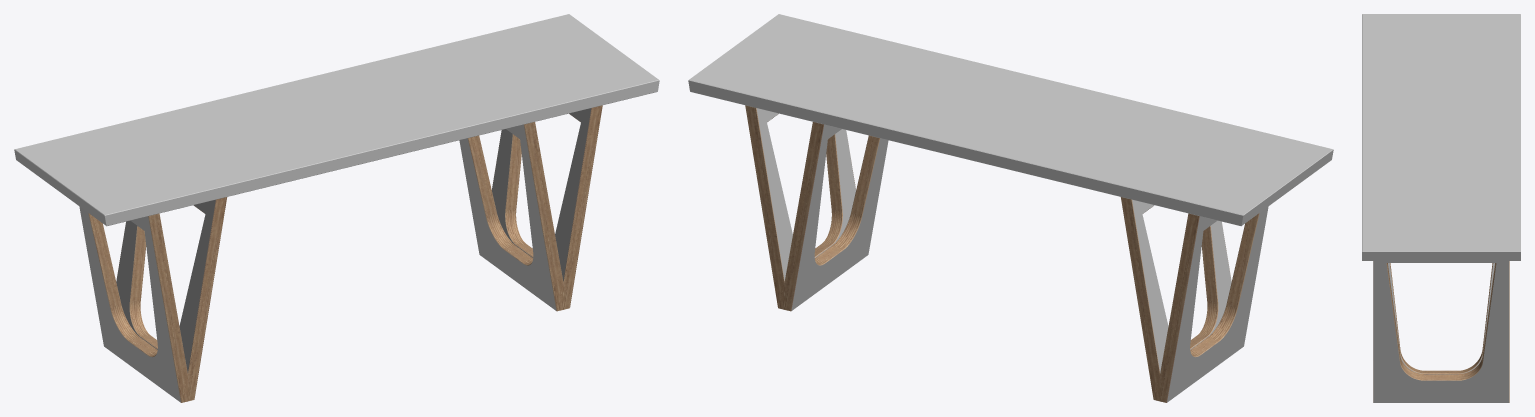
The model's file is odesd2_B2_fbx_upZ.fbx.
3 views of the same model, side by side, from view 1: azimuth 30°, elevation 25°; view 2: azimuth 150°, elevation 25°; view 3: azimuth 270°, elevation 25° (orthographic). The views are drawn at different scales.
Visible parts, largest first — view 1: odesd2_B2; view 2: odesd2_B2; view 3: odesd2_B2.
Boxes of the visible parts, box(x1,y1,x2,y2) form: odesd2_B2: box(14, 14, 659, 402); odesd2_B2: box(688, 14, 1333, 402); odesd2_B2: box(1362, 14, 1520, 402).
Bounding box in the file's own units: 124 × 35 × 45.4.
